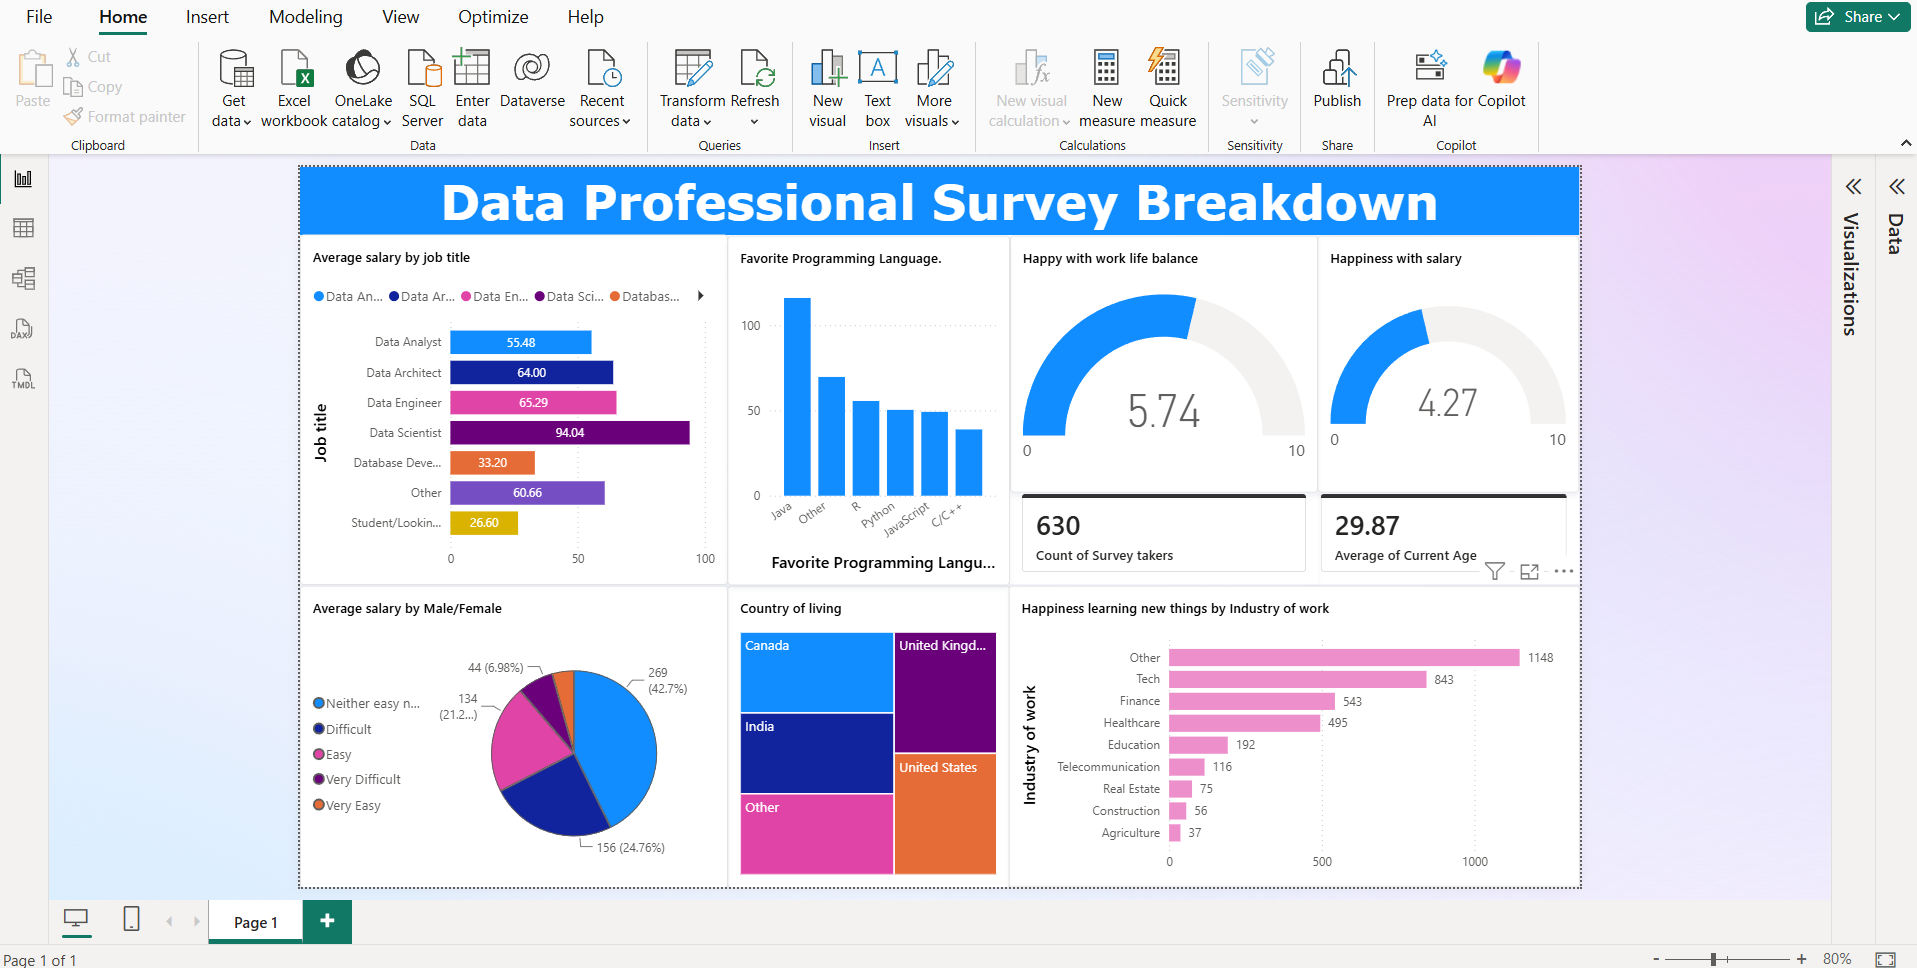

This screenshot's page, from the dashboard's own definition file:
{"tool":"powerbi","page":{"name":"Page 1","canvas":[1280,720],"ordinal":0},"visuals":[{"type":"textbox","box":[0,0,1279.4,68],"z":0},{"type":"cardVisual","fields":{"Data":["Avg(Data Professional Survey.Current Age)"]},"box":[1008.8,315.5,270.2,102.7],"z":1000},{"type":"cardVisual","fields":{"Data":["CountNonNull(Data Professional Survey (2).Unique ID)"]},"box":[710.5,315.5,308.2,102.7],"z":2000},{"type":"barChart","title":"Average salary by job title","fields":{"Category":["Data Professional Survey.Q1 - Which Title Best Fits your Current Role"],"Y":["select","Avg(Data Professional Survey.Average salary)"],"Series":["Data Professional Survey.Q1 - Which Title Best Fits your Current Role"]},"box":[0,68,428,350],"z":3000},{"type":"treemap","title":"Country of living","fields":{"Group":["Data Professional Survey.Which Country do you live in"],"Values":["Count(Data Professional Survey.Which Country do you live in)"]},"box":[428,418.2,282.5,302],"z":4000},{"type":"gauge","title":"Happiness with salary","fields":{"Y":["Avg(Data Professional Survey.How Happy are you (Salary))"],"MinValue":["Min(Data Professional Survey.How Happy are you (Salary))"],"MaxValue":["Max(Data Professional Survey.How Happy are you (Salary))"]},"box":[1017.4,68.5,261.7,256.8],"z":5000},{"type":"gauge","title":"Happy with work life balance","fields":{"Y":["Avg(Data Professional Survey.How Happy in(Work/Life Balance))"],"MinValue":["Min(Data Professional Survey.How Happy in(Work/Life Balance))1"],"MaxValue":["Max(Data Professional Survey.How Happy in(Work/Life Balance))"]},"box":[710.5,68.5,308.2,256.8],"z":6000},{"type":"pieChart","title":"Average salary by Male/Female","fields":{"Category":["Data Professional Survey.Difficulty getting Data job?"],"Y":["CountNonNull(Data Professional Survey.Difficulty getting Data job?)"]},"box":[0,418.2,428,302],"z":7000},{"type":"columnChart","title":" Favorite Programming Language.","fields":{"Y":["Avg(Data Professional Survey.Average salary)"],"Category":["Data Professional Survey.Favorite Programming Language."]},"box":[428,68.5,282.5,349.7],"z":8000},{"type":"clusteredBarChart","fields":{"Category":["Data Professional Survey.What Industry do you work in?.1"],"Y":["Sum(Data Professional Survey.How Happy are you Learning New Things))"]},"box":[709.2,418.2,571.1,302],"z":9000}]}

Visuals, with their boxes on the page's 1280x720 design canvas (x1, y1, x2, y2). These are canvas units, not pixel positions in the 1917x968 screenshot, which may show the page scaled, cropped or inside an application window:
textbox: rect(0, 0, 1279, 68)
cardVisual - Avg(Data Professional Survey.Current Age): rect(1009, 316, 1279, 418)
cardVisual - CountNonNull(Data Professional Survey (2).Unique ID): rect(710, 316, 1019, 418)
"Average salary by job title" barChart: rect(0, 68, 428, 418)
"Country of living" treemap: rect(428, 418, 710, 720)
"Happiness with salary" gauge: rect(1017, 68, 1279, 325)
"Happy with work life balance" gauge: rect(710, 68, 1019, 325)
"Average salary by Male/Female" pieChart: rect(0, 418, 428, 720)
" Favorite Programming Language." columnChart: rect(428, 68, 710, 418)
clusteredBarChart - Data Professional Survey.What Industry do you work in?.1 x Sum(Data Professional Survey.How Happy are you Learning New Things)): rect(709, 418, 1280, 720)
